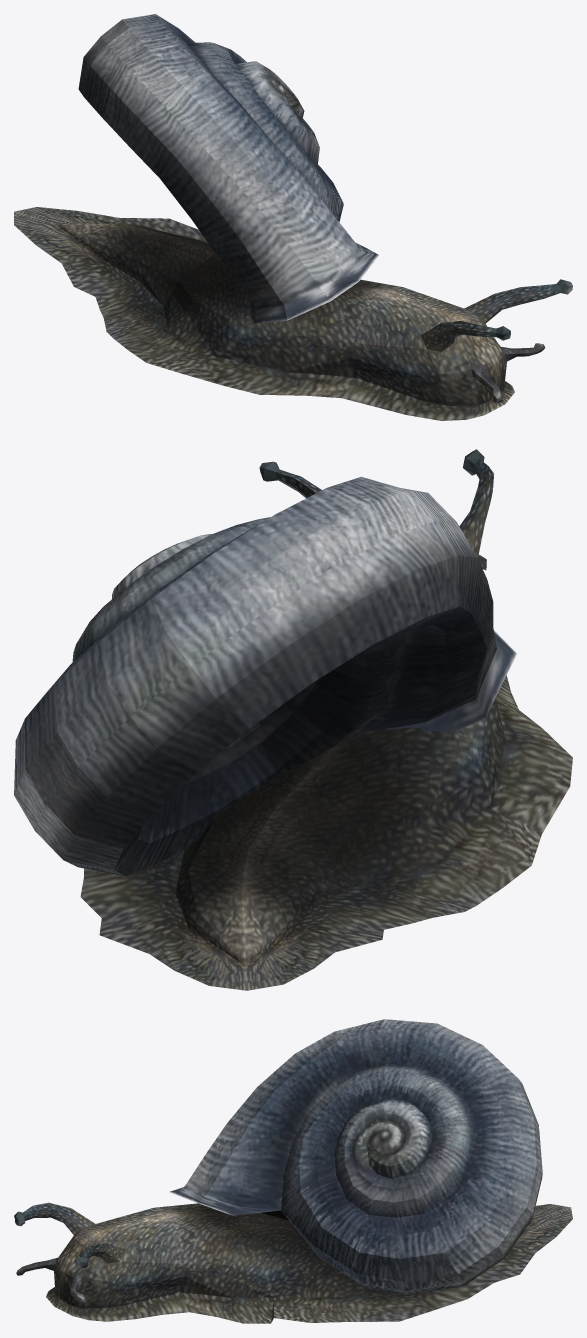
File: Rock Shell.fbx
The picture shows the model from 3 angles, top to bottom: view 1: azimuth 30°, elevation 25°; view 2: azimuth 150°, elevation 25°; view 3: azimuth 270°, elevation 25°; orthographic projection. The views are drawn at different scales.
Visible parts, largest first — view 1: Body, Shell; view 2: Shell, Body; view 3: Shell, Body.
Boxes of the visible parts, <box> form: Body: <box>14,207,572,420</box>; Shell: <box>78,14,378,323</box>; Shell: <box>14,476,516,876</box>; Body: <box>80,449,572,990</box>; Shell: <box>169,1019,542,1293</box>; Body: <box>14,1202,572,1323</box>.
Size of the model in its own units: 726 by 619 by 1352.
Materials: 1 (1 with a texture image).
